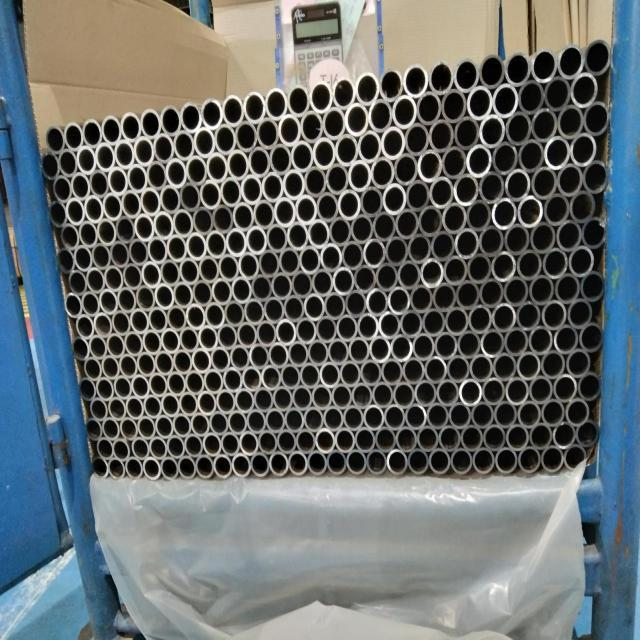pipe: (584, 38, 611, 77), (557, 43, 585, 80), (571, 71, 598, 108), (544, 75, 571, 112), (518, 79, 545, 116), (505, 50, 532, 86), (479, 53, 506, 89), (492, 82, 519, 118), (467, 85, 494, 121), (558, 104, 585, 140), (531, 107, 558, 143), (506, 110, 533, 146), (544, 192, 571, 227), (531, 47, 558, 82), (479, 114, 506, 149), (454, 116, 481, 151), (570, 132, 597, 167), (518, 138, 545, 173), (531, 165, 558, 200), (505, 168, 532, 203), (416, 90, 442, 126), (583, 101, 609, 137), (504, 223, 531, 257), (492, 141, 519, 175), (479, 170, 506, 204), (570, 189, 596, 224), (454, 57, 480, 92), (428, 60, 454, 95), (441, 88, 467, 123), (545, 135, 571, 170), (441, 145, 467, 180), (583, 160, 609, 195), (557, 162, 583, 197), (393, 94, 418, 130), (517, 195, 544, 228), (530, 221, 557, 254), (516, 248, 543, 281), (369, 97, 393, 134), (403, 64, 429, 98), (454, 173, 480, 207), (430, 119, 455, 154), (405, 122, 430, 157), (467, 143, 492, 178), (418, 149, 443, 184), (406, 178, 431, 213), (542, 247, 569, 279), (529, 274, 556, 306), (567, 297, 594, 329), (541, 299, 568, 331), (345, 101, 369, 137), (492, 197, 518, 230), (466, 199, 492, 232), (556, 219, 582, 252), (479, 225, 505, 258), (568, 245, 594, 278), (581, 216, 606, 250), (379, 68, 404, 102), (394, 153, 419, 187), (356, 71, 380, 106), (358, 129, 382, 164), (553, 324, 580, 355), (555, 272, 581, 304), (503, 276, 529, 308), (419, 204, 444, 237), (430, 176, 455, 209), (381, 126, 405, 160), (371, 156, 395, 190), (348, 159, 372, 193), (516, 301, 542, 332), (279, 113, 302, 148), (336, 132, 359, 167), (270, 141, 293, 176), (492, 251, 517, 283), (443, 202, 467, 235), (455, 227, 479, 260), (332, 76, 356, 109), (234, 120, 258, 153), (301, 110, 324, 144), (257, 116, 280, 150), (326, 162, 349, 196), (283, 167, 306, 201), (540, 350, 566, 380), (580, 271, 605, 302), (456, 280, 481, 311), (492, 302, 517, 333), (468, 304, 493, 335), (579, 322, 604, 353), (529, 325, 554, 356), (504, 326, 529, 357), (431, 230, 455, 262), (408, 233, 432, 265), (468, 253, 492, 285), (480, 277, 504, 309), (396, 207, 419, 240), (310, 80, 333, 113), (288, 84, 311, 117), (266, 87, 289, 120), (244, 91, 267, 124), (313, 136, 336, 169), (291, 140, 314, 173), (248, 145, 271, 178), (304, 165, 327, 198), (383, 182, 406, 215), (361, 185, 384, 218), (338, 188, 361, 221), (480, 328, 505, 358), (493, 352, 518, 382), (553, 373, 578, 403), (505, 376, 530, 406), (565, 397, 590, 427), (541, 397, 566, 427), (517, 399, 542, 429), (493, 400, 518, 430), (448, 402, 473, 432), (575, 418, 600, 448), (222, 94, 244, 128), (324, 106, 346, 140), (444, 255, 468, 286), (517, 351, 541, 382), (295, 193, 318, 225), (373, 211, 396, 243), (351, 213, 374, 245), (186, 155, 209, 187), (567, 350, 593, 378), (201, 97, 223, 130), (215, 123, 237, 156), (227, 148, 249, 181), (207, 151, 229, 184), (262, 171, 284, 204), (422, 308, 446, 338), (457, 329, 481, 359), (470, 353, 494, 383), (577, 372, 601, 402), (529, 375, 553, 405), (471, 401, 495, 431), (386, 236, 409, 267), (363, 238, 386, 269), (320, 242, 343, 273), (421, 258, 444, 289), (398, 260, 421, 291), (376, 262, 399, 293), (433, 282, 456, 313), (388, 285, 411, 316), (447, 354, 470, 385), (425, 355, 448, 386), (317, 191, 339, 223), (274, 196, 296, 228), (212, 203, 234, 235), (194, 127, 216, 159), (241, 174, 263, 206), (200, 178, 222, 210), (541, 445, 565, 474), (518, 446, 542, 475), (174, 129, 195, 162), (154, 132, 175, 165), (134, 134, 155, 167), (308, 220, 331, 250), (333, 266, 356, 296), (410, 284, 433, 314), (345, 289, 368, 319), (446, 306, 469, 336), (400, 309, 423, 339), (435, 331, 458, 361), (412, 332, 435, 362), (369, 334, 392, 364), (254, 199, 276, 230), (330, 216, 352, 247), (246, 225, 268, 256), (342, 240, 364, 271), (238, 250, 260, 281), (354, 264, 376, 295), (367, 287, 389, 318), (233, 201, 254, 233), (193, 205, 214, 237), (173, 207, 194, 239), (459, 379, 483, 407), (552, 422, 576, 450), (528, 423, 552, 451), (483, 424, 507, 452), (181, 101, 202, 133), (161, 105, 182, 137), (141, 108, 162, 140), (121, 111, 142, 143), (115, 138, 136, 170), (95, 141, 116, 173), (147, 160, 168, 192), (127, 162, 148, 194), (221, 176, 242, 208), (160, 183, 181, 215), (141, 186, 162, 218), (403, 357, 426, 386), (482, 377, 505, 406), (437, 378, 460, 407), (415, 379, 438, 408), (472, 446, 495, 475), (495, 446, 518, 475), (428, 447, 451, 476), (450, 447, 473, 476), (365, 448, 388, 477), (407, 448, 430, 477), (387, 448, 410, 477), (287, 221, 309, 251), (267, 223, 289, 253), (299, 245, 321, 275), (258, 248, 280, 278), (312, 268, 334, 298), (324, 291, 346, 321), (283, 294, 305, 324), (336, 313, 358, 343), (381, 357, 403, 387), (226, 227, 247, 258), (45, 124, 66, 155), (506, 424, 529, 452), (460, 425, 483, 453), (438, 425, 461, 453), (58, 147, 78, 179), (167, 157, 187, 189), (89, 167, 109, 199), (304, 293, 326, 322), (379, 311, 401, 340), (357, 312, 379, 341), (391, 334, 413, 363), (348, 336, 370, 365), (328, 337, 350, 366), (360, 358, 382, 387), (393, 380, 415, 409), (372, 381, 394, 410), (427, 401, 449, 430), (384, 404, 406, 433), (417, 424, 439, 453), (375, 425, 397, 454), (395, 426, 417, 455), (134, 213, 155, 243), (280, 246, 301, 276), (272, 271, 293, 301), (180, 182, 201, 212), (121, 189, 142, 219), (564, 444, 587, 471), (84, 194, 104, 225), (154, 210, 174, 241), (102, 115, 122, 146), (83, 118, 103, 149), (64, 121, 84, 152), (71, 171, 91, 202), (307, 339, 329, 367), (340, 360, 362, 388), (351, 382, 373, 410), (405, 403, 427, 431), (345, 448, 367, 476), (292, 270, 313, 299), (252, 274, 273, 303), (264, 296, 285, 325), (244, 297, 265, 326), (316, 315, 337, 344), (116, 215, 136, 245), (207, 230, 227, 260), (167, 234, 187, 264), (148, 236, 168, 266), (180, 256, 200, 286), (160, 258, 180, 288), (108, 166, 128, 196), (335, 427, 357, 454), (104, 191, 123, 222), (186, 232, 207, 260), (296, 317, 317, 345), (288, 340, 309, 368), (320, 361, 341, 389), (300, 362, 321, 390), (364, 404, 385, 432), (343, 404, 364, 432), (304, 406, 325, 434), (355, 426, 376, 454), (66, 197, 86, 226), (97, 218, 117, 247), (129, 238, 149, 267), (110, 240, 130, 269), (219, 253, 239, 282), (142, 260, 162, 289), (123, 262, 143, 291), (104, 264, 124, 293), (68, 268, 88, 297), (232, 276, 252, 305), (212, 277, 232, 306), (173, 281, 193, 310), (136, 284, 156, 313), (148, 305, 168, 334), (276, 318, 296, 347), (257, 319, 277, 348), (230, 343, 250, 372), (60, 222, 79, 252), (92, 242, 111, 272), (77, 146, 96, 176), (41, 150, 60, 180), (326, 449, 347, 476), (269, 449, 290, 476), (307, 450, 328, 477), (287, 451, 308, 478), (250, 451, 271, 478), (231, 452, 252, 479), (212, 453, 233, 480), (200, 256, 220, 284), (193, 279, 213, 307), (117, 286, 137, 314), (205, 301, 225, 329), (186, 303, 206, 331), (75, 313, 95, 341), (237, 321, 257, 349), (218, 323, 238, 351), (198, 324, 218, 352), (180, 326, 200, 354), (250, 342, 270, 370), (211, 345, 231, 373), (281, 363, 301, 391), (332, 383, 352, 411), (293, 384, 313, 412), (284, 406, 304, 434), (48, 199, 67, 228), (79, 220, 98, 249), (74, 244, 93, 273), (87, 266, 106, 295), (168, 304, 187, 333), (53, 174, 72, 203), (323, 406, 344, 432), (239, 431, 260, 457), (225, 300, 245, 327), (161, 328, 181, 355), (269, 342, 289, 369), (136, 351, 156, 378), (261, 364, 281, 391), (242, 366, 262, 393), (223, 367, 243, 394), (312, 384, 332, 411), (254, 386, 274, 413), (235, 387, 255, 414), (265, 407, 285, 434), (246, 408, 266, 435), (228, 409, 248, 436), (315, 428, 335, 455), (296, 428, 316, 455), (258, 429, 278, 456), (155, 282, 174, 310), (99, 288, 118, 316), (82, 290, 101, 318), (131, 307, 150, 335), (112, 310, 131, 338), (143, 328, 162, 356), (125, 330, 144, 358), (56, 247, 76, 273), (106, 333, 126, 359), (101, 355, 121, 381), (197, 390, 217, 416), (177, 454, 197, 480), (195, 455, 215, 481), (160, 456, 180, 482), (142, 456, 162, 482), (94, 312, 113, 339), (192, 347, 211, 374), (174, 349, 193, 376), (155, 350, 174, 377), (83, 355, 102, 382), (204, 367, 223, 394), (168, 370, 187, 397), (186, 371, 205, 398), (149, 372, 168, 399), (217, 388, 236, 415), (180, 390, 199, 417), (108, 395, 127, 422), (210, 410, 229, 437), (173, 412, 192, 439), (120, 415, 139, 442), (221, 431, 240, 458), (203, 432, 222, 459), (185, 433, 204, 460), (167, 434, 186, 461), (273, 387, 293, 412), (125, 397, 145, 422), (63, 293, 82, 319), (96, 376, 115, 402), (191, 411, 210, 437), (137, 415, 156, 441), (89, 334, 107, 361), (119, 353, 137, 380), (132, 373, 150, 400), (78, 376, 96, 403), (102, 416, 120, 443), (112, 437, 130, 464), (114, 375, 133, 400), (161, 393, 180, 418), (143, 395, 162, 420), (277, 429, 296, 454), (131, 436, 150, 461), (125, 457, 144, 482), (107, 457, 126, 482), (72, 336, 90, 362), (155, 413, 173, 439), (90, 397, 108, 422), (149, 437, 168, 460), (85, 417, 102, 442), (96, 438, 113, 463), (93, 456, 110, 481)
